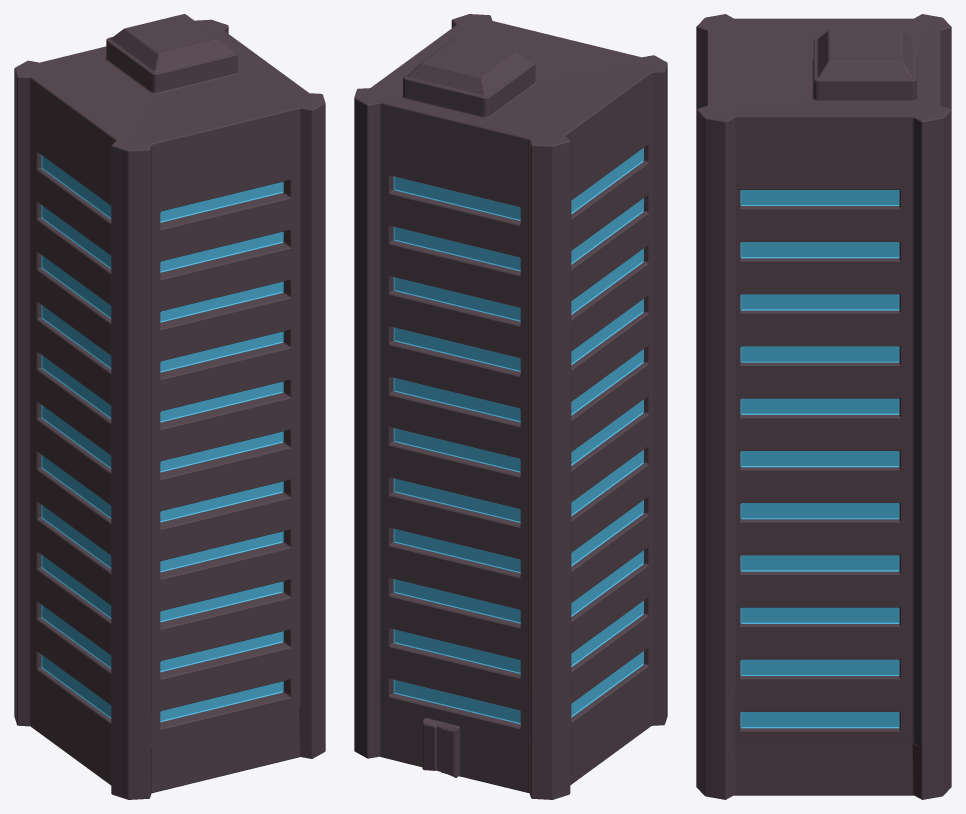
Rendered from buildings.fbx.
3 renders of one model, left to right at view 1: azimuth 30°, elevation 25°; view 2: azimuth 150°, elevation 25°; view 3: azimuth 270°, elevation 25°, orthographic. The views are drawn at different scales.
Visible parts, largest first — view 1: 1; view 2: 1; view 3: 1.
Boxes of the visible parts, box(x1,y1,x2,y2) form: 1: box(14, 14, 325, 799); 1: box(354, 14, 667, 799); 1: box(696, 14, 951, 799).
Bounding box in the file's own units: 1879 × 5784 × 1879.
